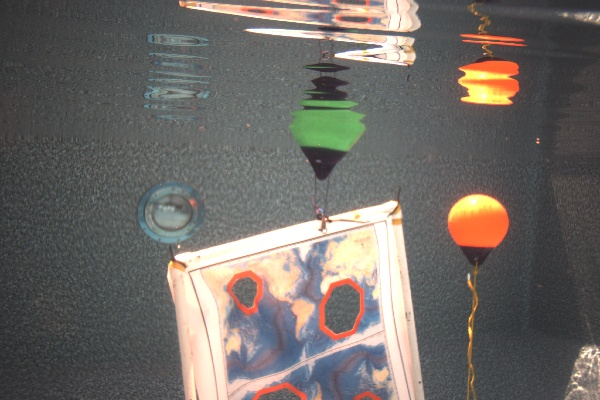buoy: (447, 192, 509, 262)
torpille: (168, 199, 424, 400)
torpille_target: (318, 278, 366, 338), (226, 270, 266, 316), (252, 382, 304, 400), (349, 392, 381, 400)
